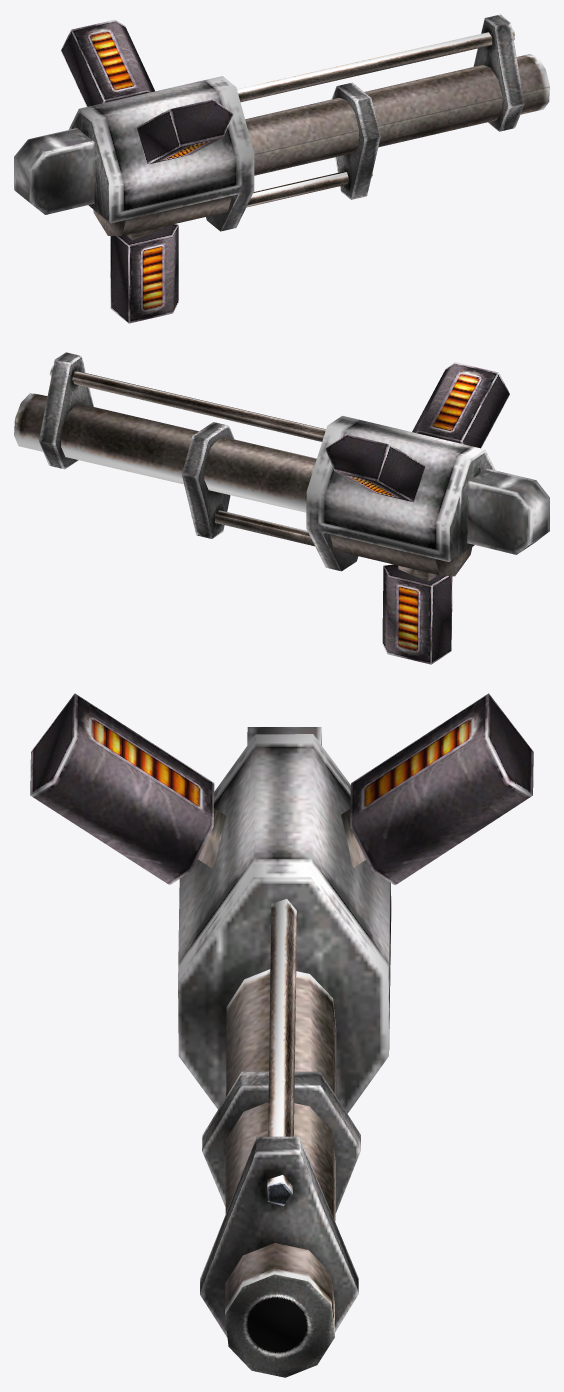
Rendered from Robot01.ChestMachineGun2.fbx.
3 renders of one model, top to bottom at view 1: azimuth 30°, elevation 25°; view 2: azimuth 150°, elevation 25°; view 3: azimuth 270°, elevation 25°, orthographic. The views are drawn at different scales.
Visible parts, largest first — view 1: mesh_636.001; view 2: mesh_636.001; view 3: mesh_636.001.
Part boxes in pixels (x1,y1,x2,y2): mesh_636.001: (14,14,549,323); mesh_636.001: (14,352,549,664); mesh_636.001: (30,693,533,1377).
Bounding box in the file's own units: 144 × 67.22 × 61.3.
